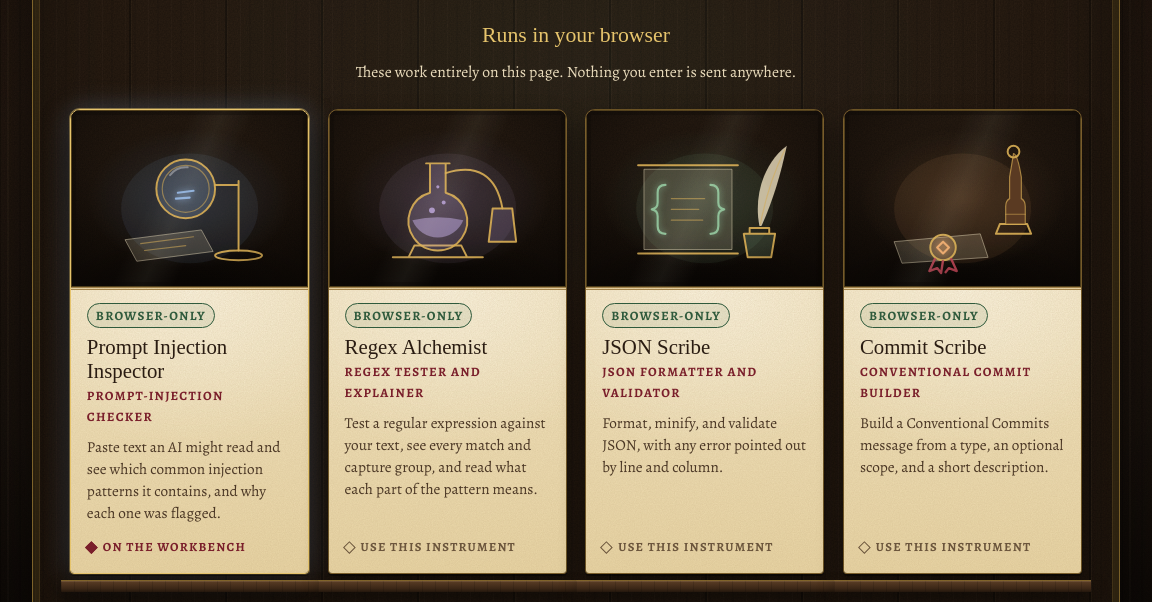
Test: the Laboratory page › selecting an instrument swaps the workbench in place, without a route change or page transition
The width and height of the screenshot is (1152, 602).
(page scrolled)
Click the 2nd button.
click(447, 342)  # box [328,108,567,574]
(page scrolled)
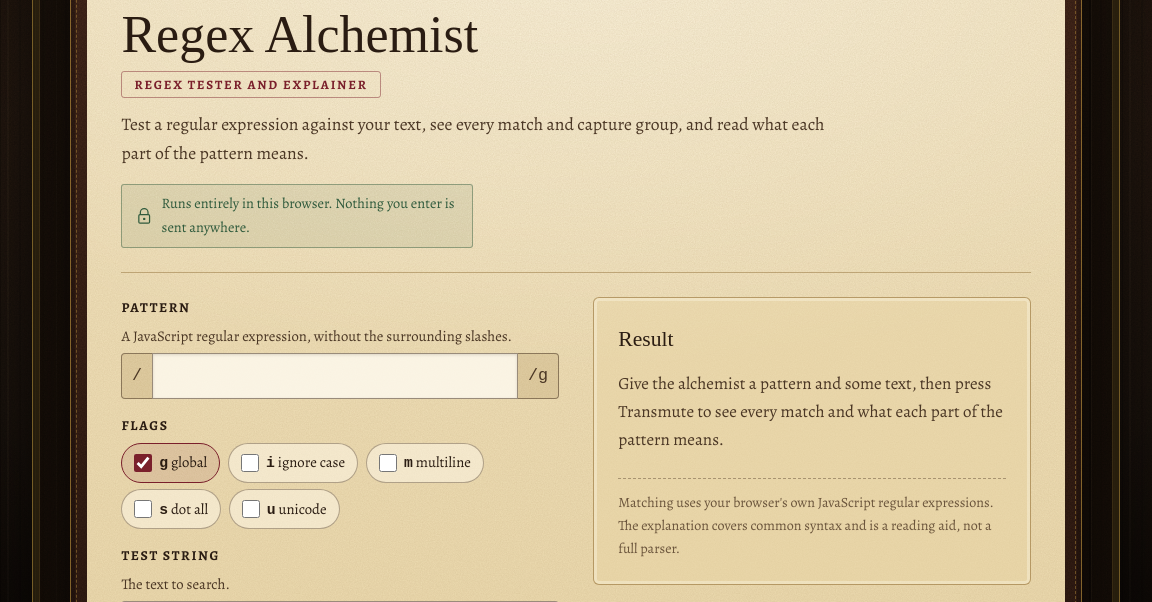
Now the heading "Regex Alchemist" is shown, box [121,6,478,63]
